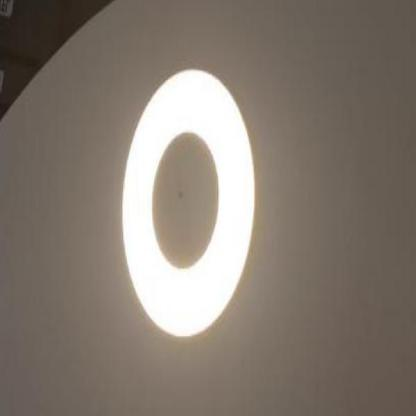light_on: (93, 41, 276, 358)
